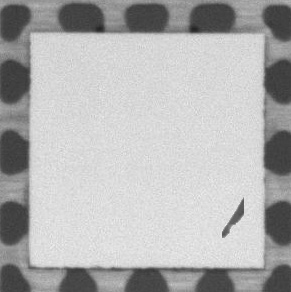DIE_INK: (222, 197, 244, 241)
